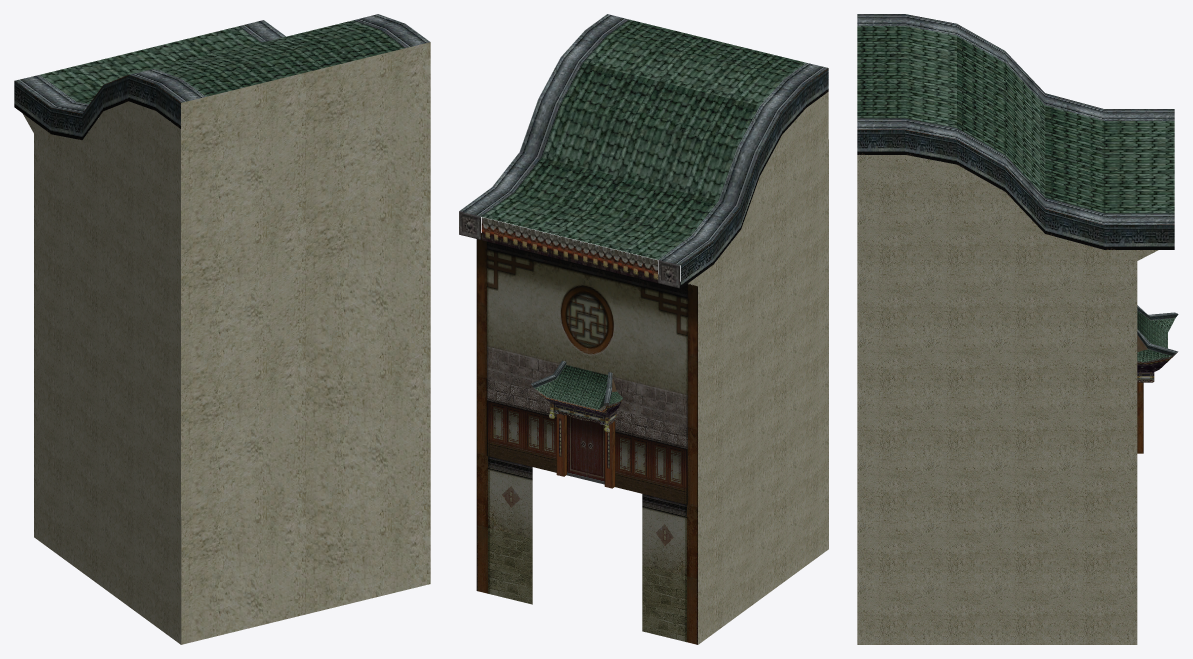
File: cj_monstad_martbuil02_03.glb
The picture shows the model from 3 angles, left to right: view 1: azimuth 30°, elevation 25°; view 2: azimuth 150°, elevation 25°; view 3: azimuth 270°, elevation 25°; orthographic projection. The views are drawn at different scales.
Parts seen in each view (by area): view 1: CJ_monstad_martbuil02_03_02, CJ_monstad_martbuil02_03_01; view 2: CJ_monstad_martbuil02_03_01, CJ_monstad_martbuil02_03_03, CJ_monstad_martbuil02_03_02, CJ_monstad_martbuil02_03_04; view 3: CJ_monstad_martbuil02_03_02, CJ_monstad_martbuil02_03_01, CJ_monstad_martbuil02_03_03.
Part boxes in pixels (x1=…): CJ_monstad_martbuil02_03_02: x1=23, y1=42, x2=430, y2=644; CJ_monstad_martbuil02_03_01: x1=14, y1=14, x2=429, y2=139; CJ_monstad_martbuil02_03_01: x1=459, y1=14, x2=828, y2=488; CJ_monstad_martbuil02_03_03: x1=476, y1=233, x2=697, y2=644; CJ_monstad_martbuil02_03_02: x1=688, y1=92, x2=828, y2=644; CJ_monstad_martbuil02_03_04: x1=549, y1=401, x2=616, y2=432; CJ_monstad_martbuil02_03_02: x1=857, y1=155, x2=1158, y2=644; CJ_monstad_martbuil02_03_01: x1=857, y1=14, x2=1178, y2=371; CJ_monstad_martbuil02_03_03: x1=1137, y1=382, x2=1143, y2=453.
Bounding box in the file's own units: 8.06 × 16.73 × 9.45.
Materials: 4 (4 with a texture image).
